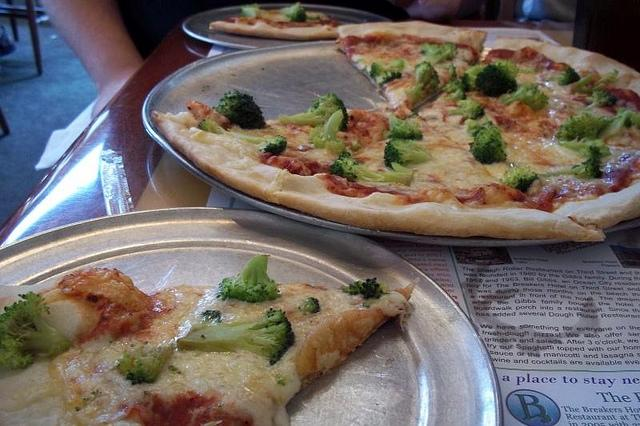broccoli: (176, 308, 295, 366), (0, 291, 72, 371), (217, 254, 279, 304), (330, 152, 413, 186), (278, 92, 348, 132), (116, 343, 174, 386), (212, 88, 266, 128), (402, 60, 440, 110), (554, 110, 614, 140), (310, 108, 348, 154), (468, 121, 508, 164), (500, 81, 550, 111), (474, 65, 517, 97), (384, 138, 430, 167), (598, 108, 640, 139), (232, 133, 288, 156), (572, 145, 602, 179), (342, 277, 386, 300), (382, 115, 422, 139), (556, 140, 612, 157), (369, 59, 405, 85), (505, 166, 539, 191), (420, 41, 457, 63), (448, 97, 484, 119), (546, 67, 581, 86), (280, 1, 308, 23), (442, 78, 467, 100), (585, 89, 617, 106), (298, 296, 320, 314), (240, 6, 260, 18), (391, 162, 414, 172)
